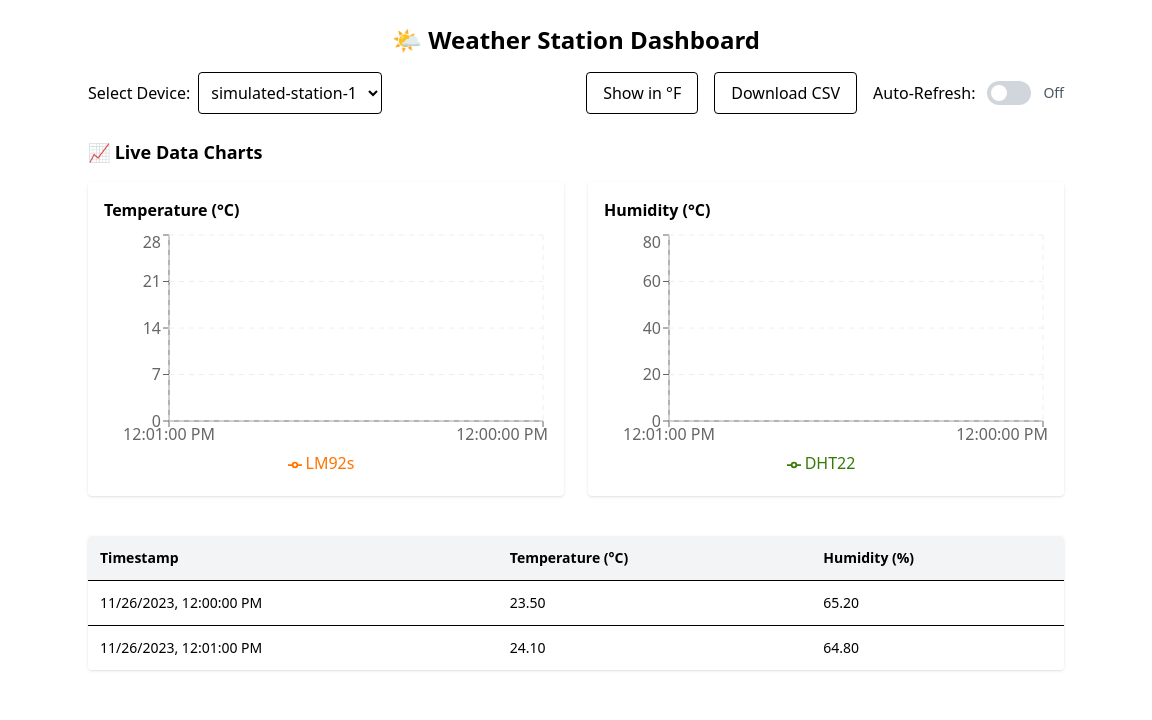
Test: Weather Dashboard Integration Tests › handles polling mode correctly
Expected: the heading "📈 Live Data Charts" is shown, [88, 140, 263, 164]
Click the 3rd button. click: (1009, 93)
box: [987, 81, 1031, 105]
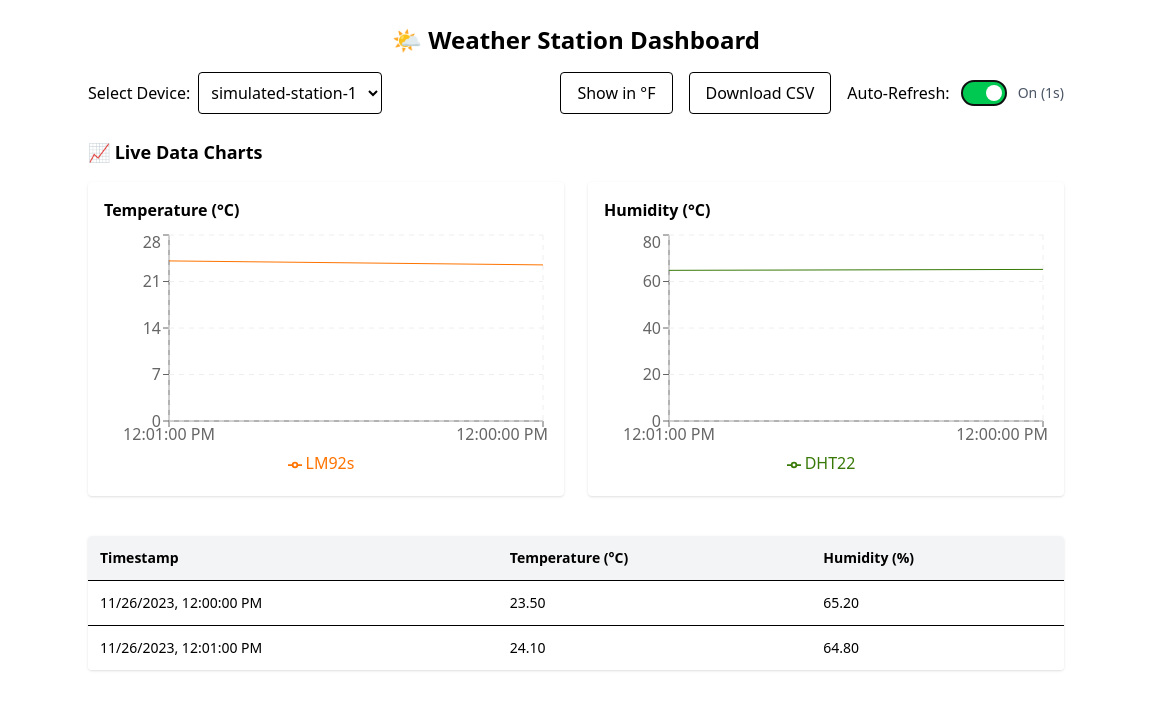
Result: the text "On (1s)" is shown at [1018, 83, 1064, 103]
Note: Disable polling
Click the 3rd button. click: (984, 93)
box: [962, 81, 1006, 105]
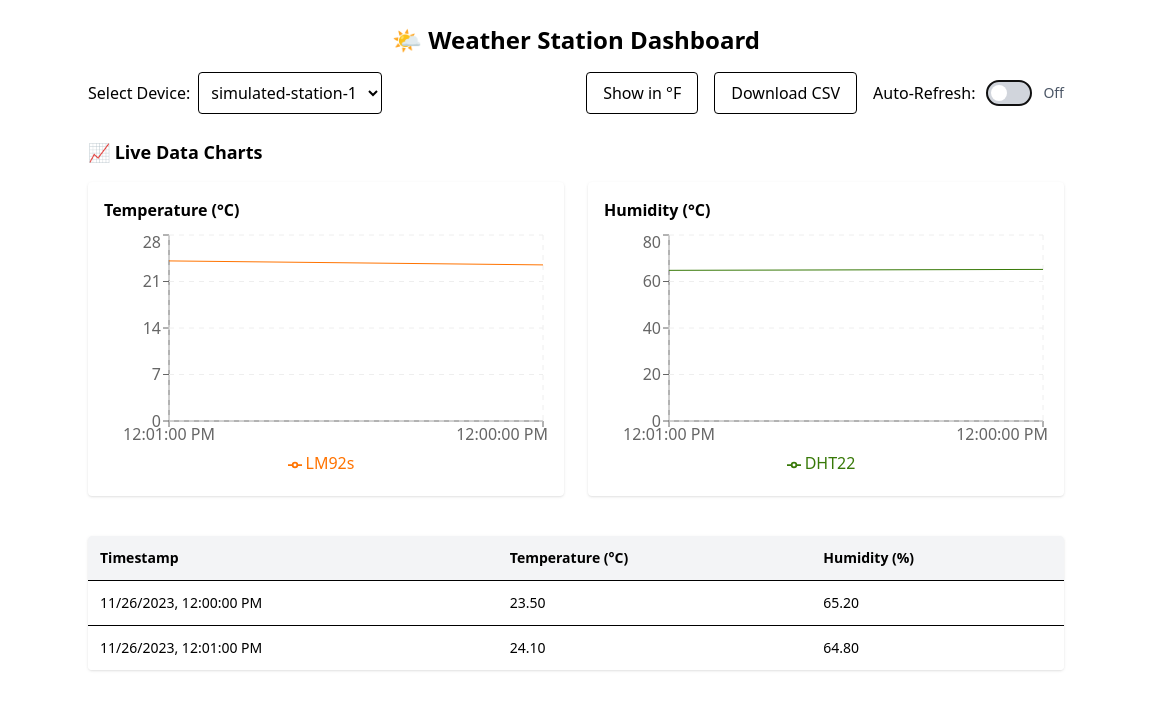
Result: the text "Off" is shown at [1043, 83, 1064, 103]
